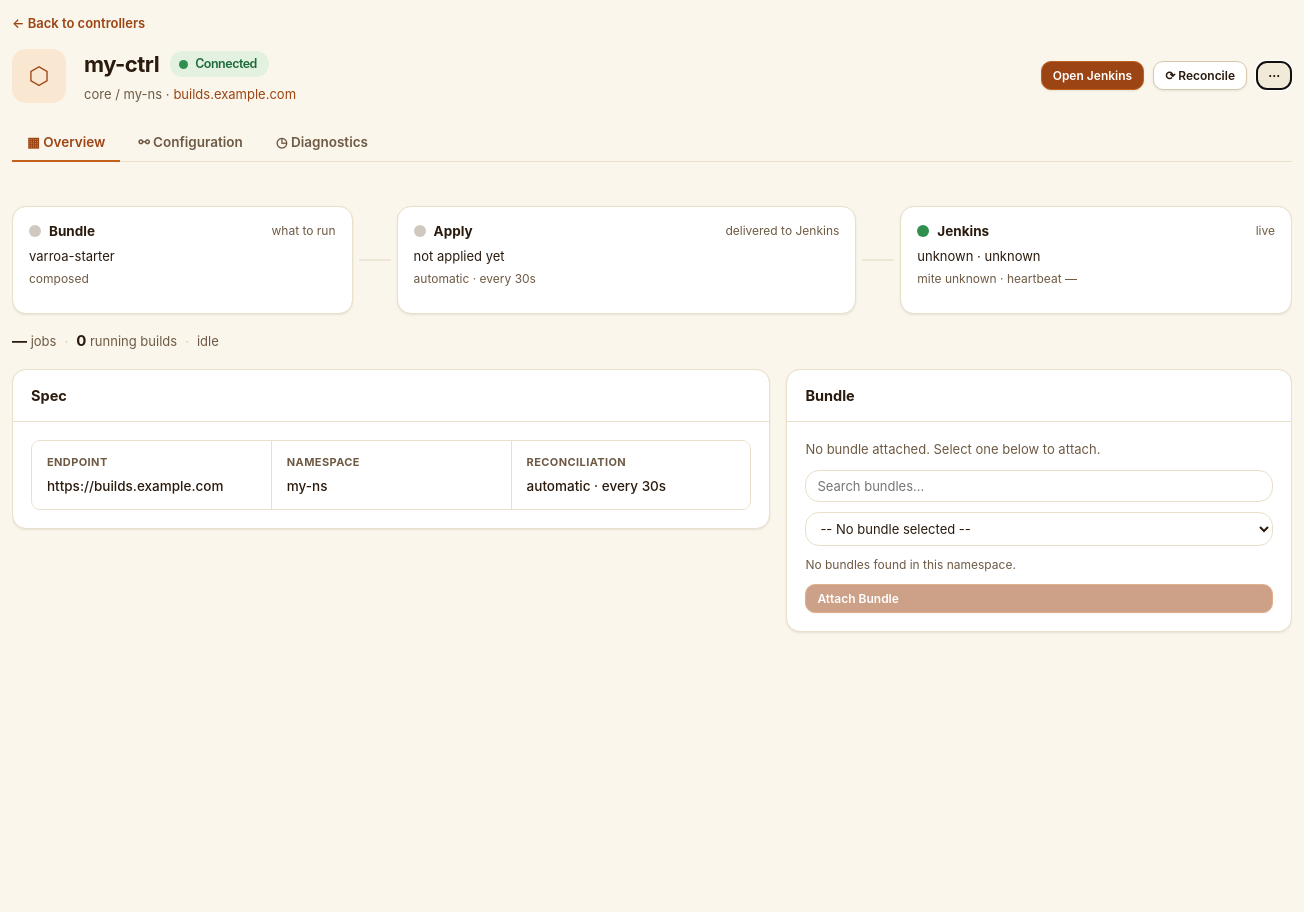
Test: ControllerDetail — Power state controls › shows Reprovision and Restart buttons
The image size is (1304, 912).
Click the button named "more actions" at (1274, 76), box [1256,61,1292,90]
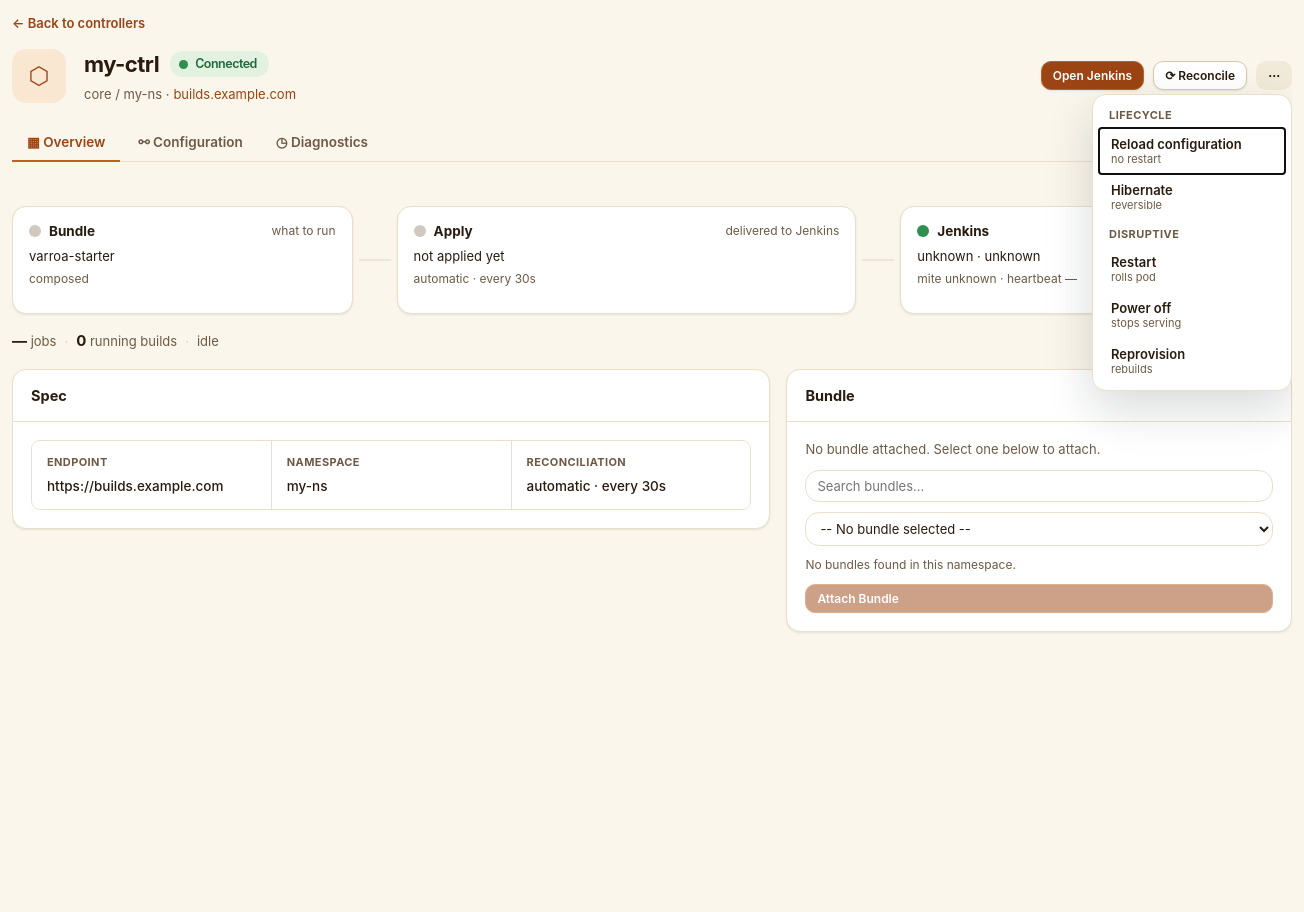
expect the menu item "Reprovision rebuilds" is shown: met, box [1099,338,1285,384]
expect the menu item "Restart rolls pod" is shown: met, box [1099,246,1285,292]
